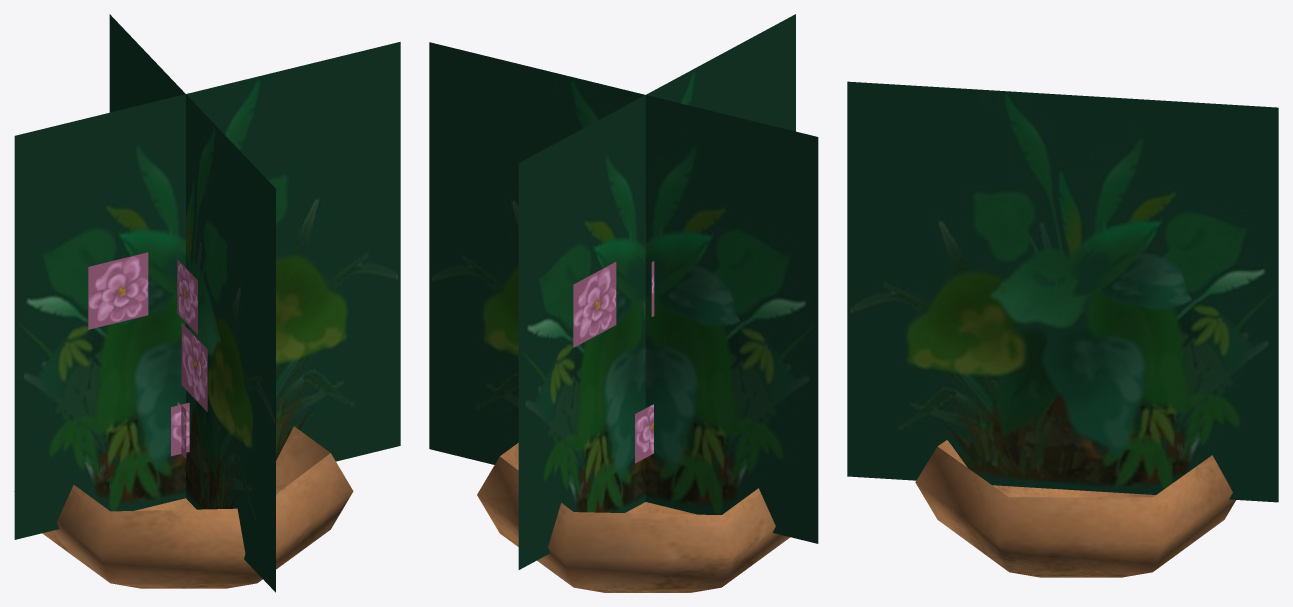
Rendered from FlowerPot2.fbx.
3 renders of one model, left to right at view 1: azimuth 30°, elevation 25°; view 2: azimuth 150°, elevation 25°; view 3: azimuth 270°, elevation 25°, orthographic. The views are drawn at different scales.
Visible parts, largest first — view 1: pPlane2, pPlane10, pSphere2, pPlane8, pPlane11, pPlane12, pPlane9; view 2: pPlane2, pPlane10, pSphere2, pPlane13, pPlane14; view 3: pPlane10, pSphere2.
Boxes of the visible parts, x1,y1,x2,y2 form: pPlane2: (14,42,400,539); pPlane10: (109,14,275,592); pSphere2: (14,426,353,588); pPlane8: (88,252,148,329); pPlane11: (181,322,207,411); pPlane12: (177,259,197,334); pPlane9: (171,402,189,456); pPlane2: (429,42,818,543); pPlane10: (518,14,795,569); pSphere2: (477,443,790,592); pPlane13: (573,262,616,347); pPlane14: (635,404,653,463); pPlane10: (847,81,1278,502); pSphere2: (915,440,1235,577).
Size of the model in its own units: 295 by 338 by 292.
2 materials, 2 textured.
